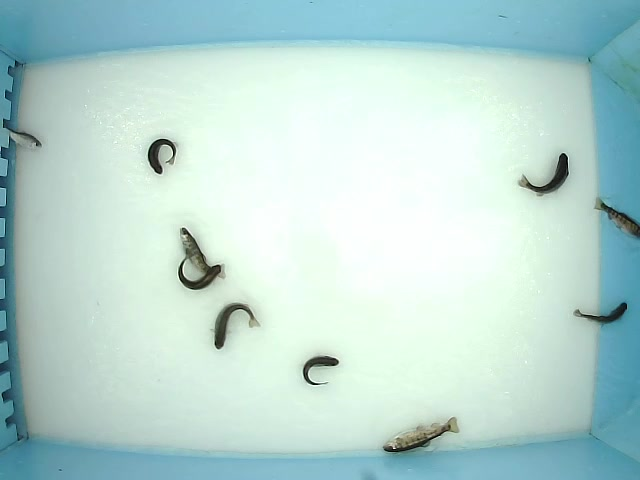fish: (382, 416, 461, 454), (208, 300, 261, 351), (516, 152, 571, 198), (179, 227, 226, 279), (592, 196, 640, 243), (177, 247, 222, 291), (572, 301, 629, 329), (302, 355, 340, 387), (147, 138, 178, 176), (1, 127, 43, 152)
